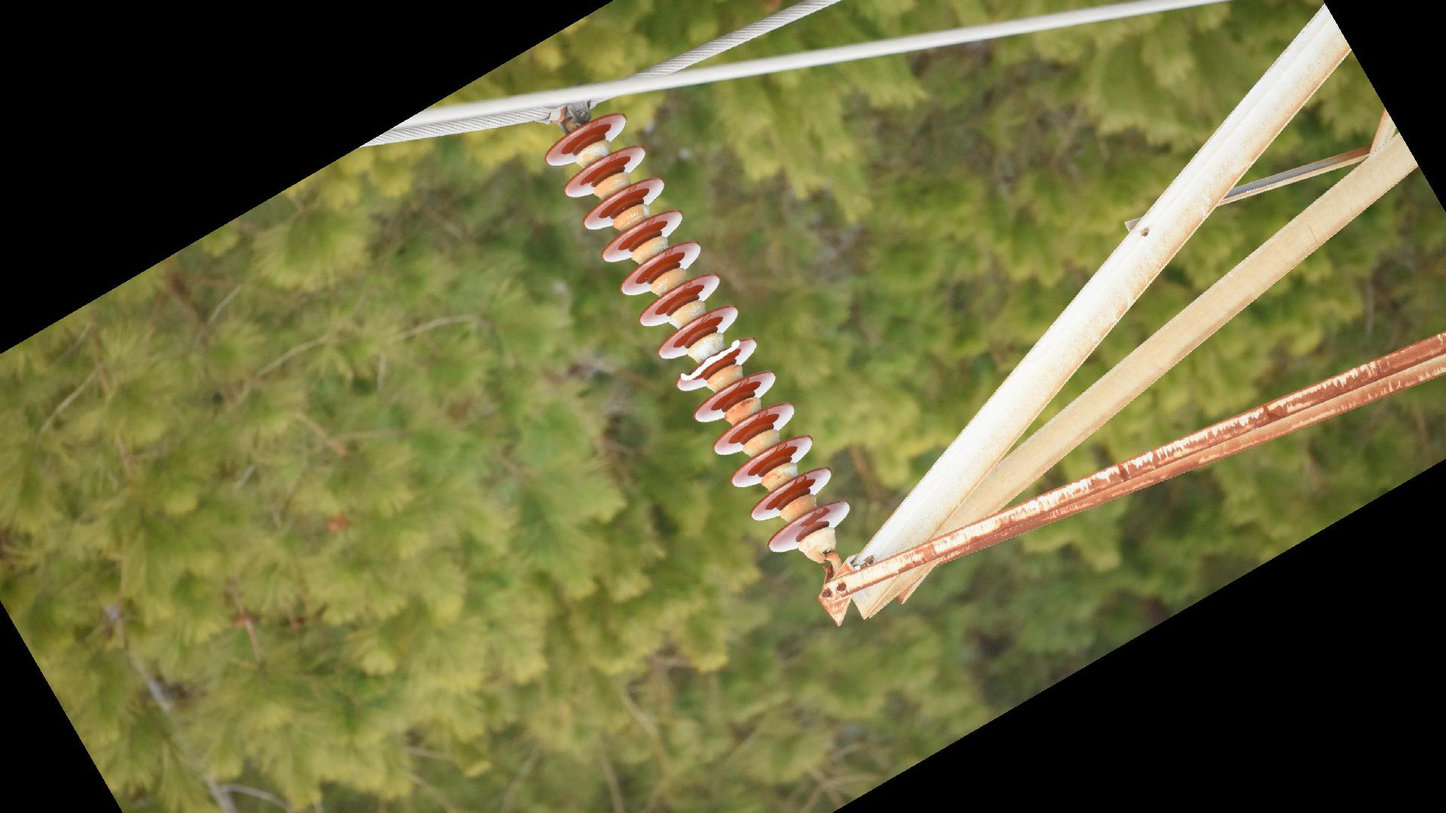insulator: (541, 109, 855, 559)
insulator_breakage: (676, 336, 743, 383)
